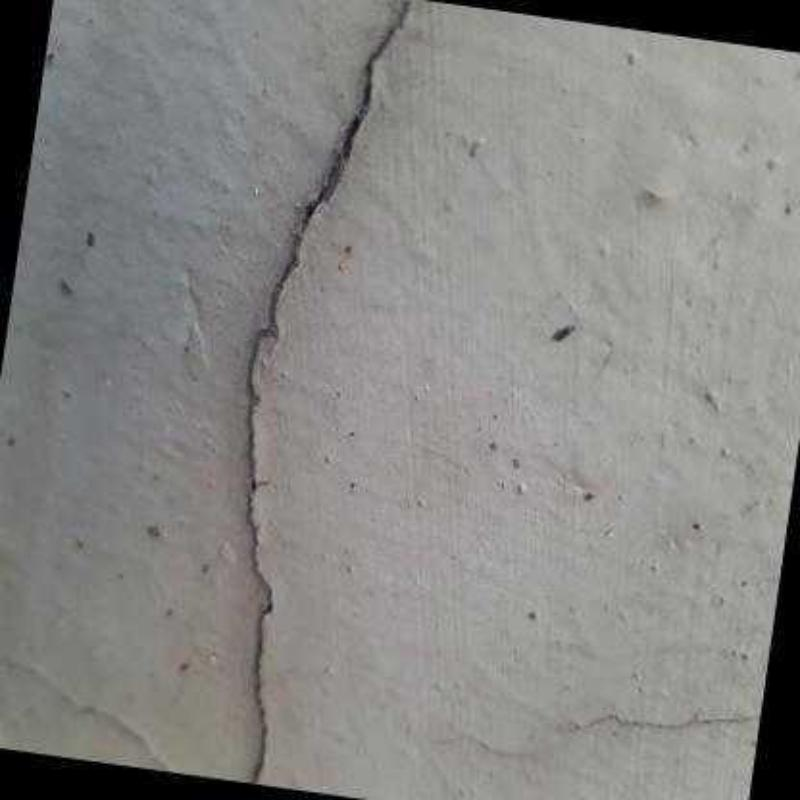crack: (245, 0, 409, 783)
